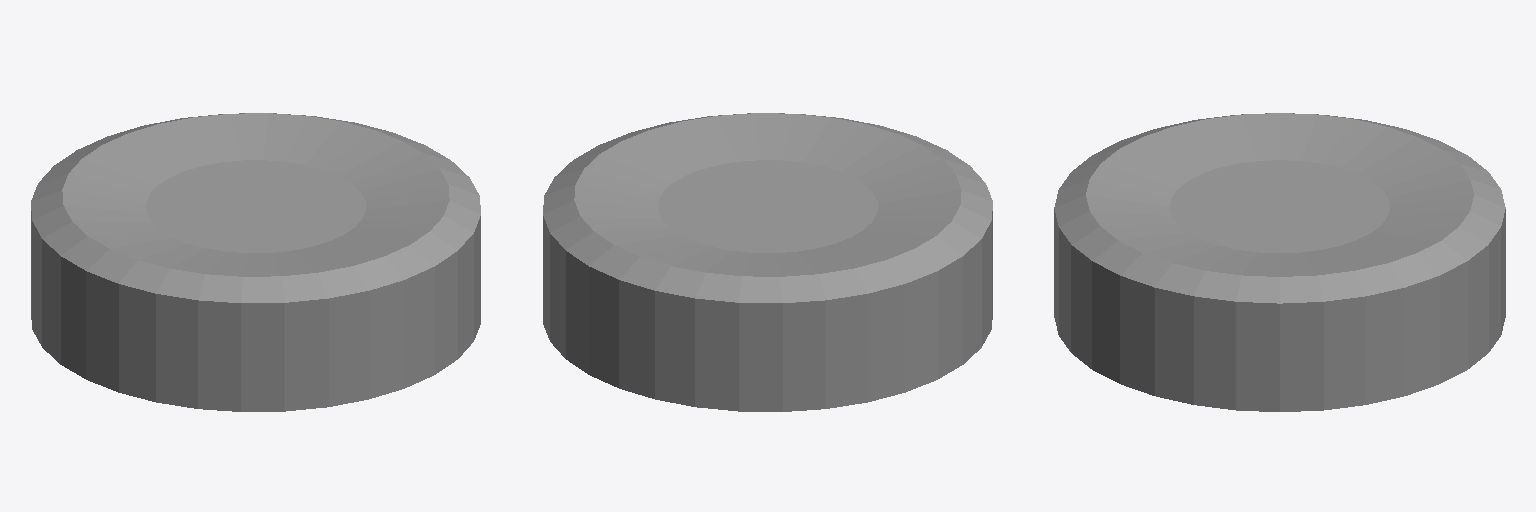
Rendered from gamePad_button.obj.
3 renders of one model, left to right at view 1: azimuth 30°, elevation 25°; view 2: azimuth 150°, elevation 25°; view 3: azimuth 270°, elevation 25°, orthographic.
Visible parts, largest first — view 1: Circle; view 2: Circle; view 3: Circle.
Part boxes in pixels (x1,y1,x2,y2): Circle: (31,113,480,411); Circle: (543,113,992,411); Circle: (1054,113,1505,411).
Size of the model in its own units: 0.3047 by 0.0908 by 0.3047.